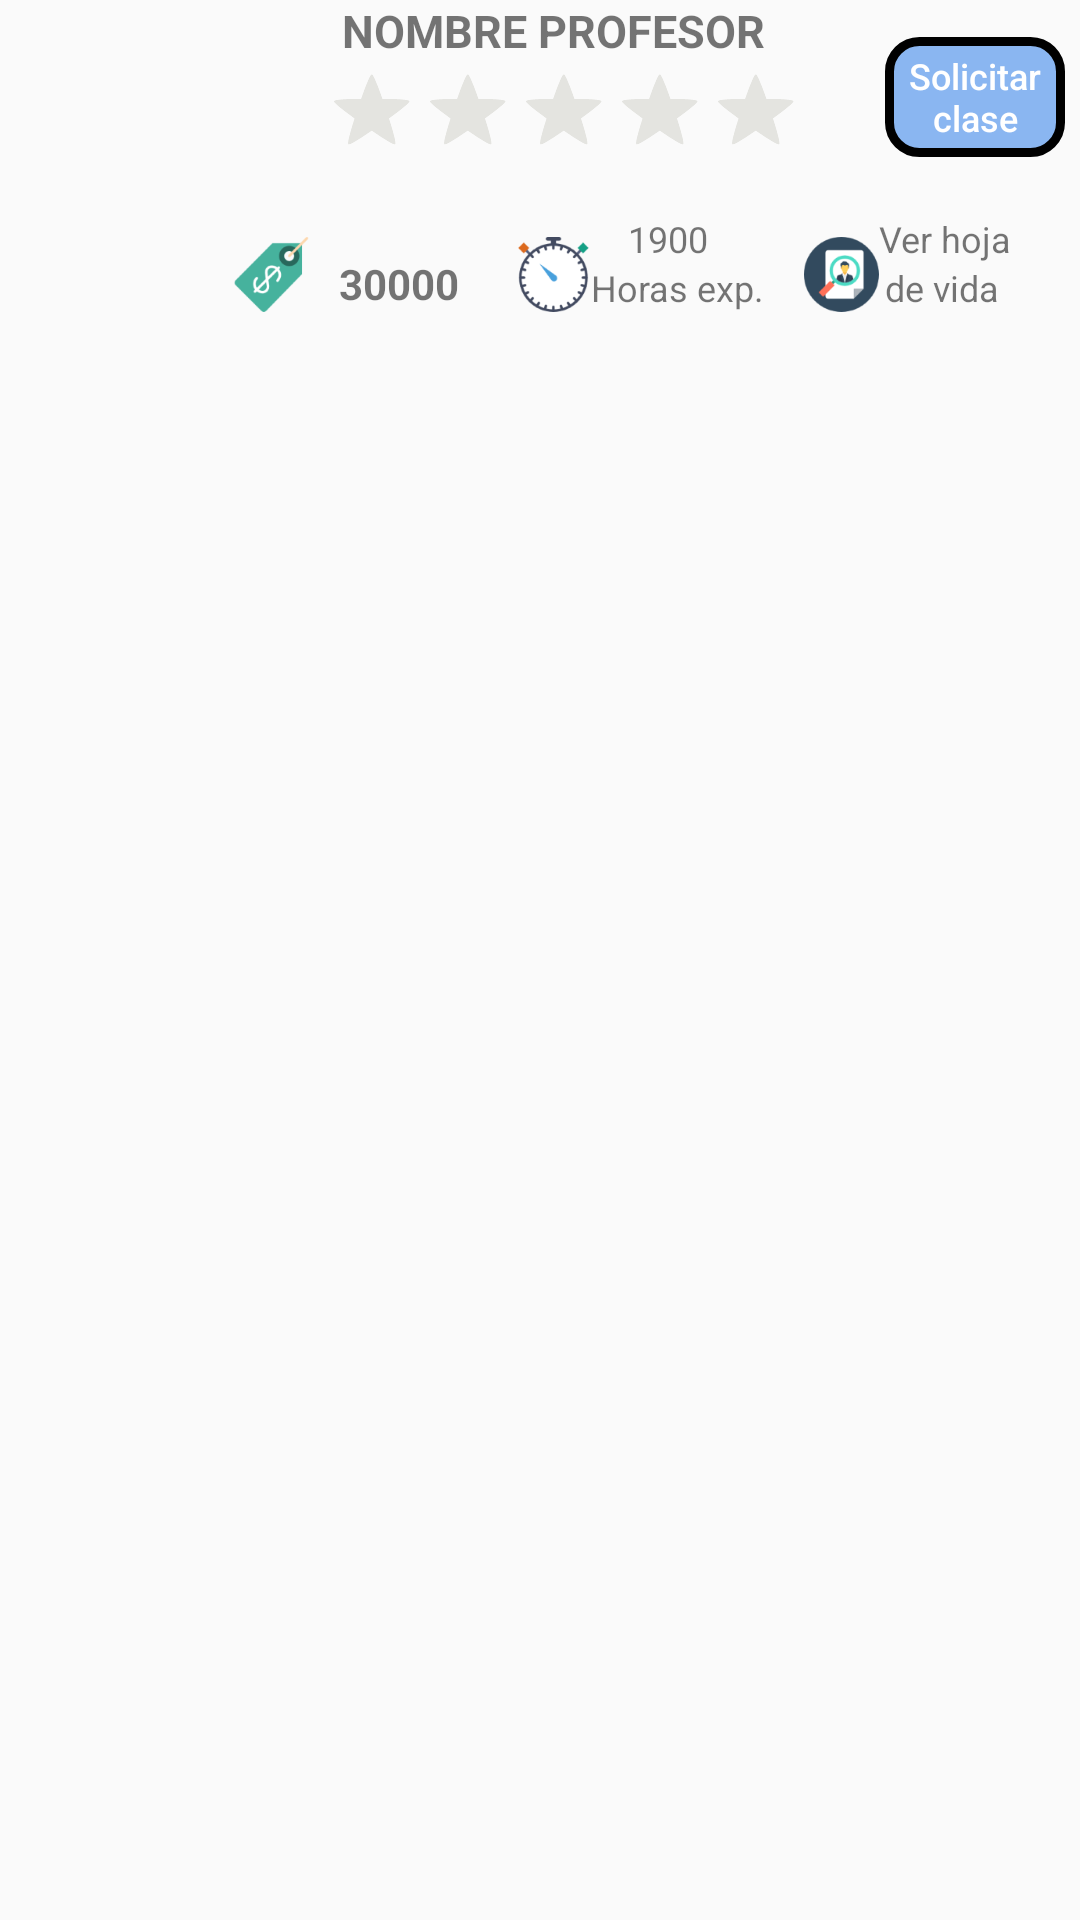

Screen size 1080 x 1920. Icon name, then its center in pixels as (x=x, y=y):
cronografo: (x=553, y=274)
precio: (x=271, y=274)
vitae: (x=841, y=274)
